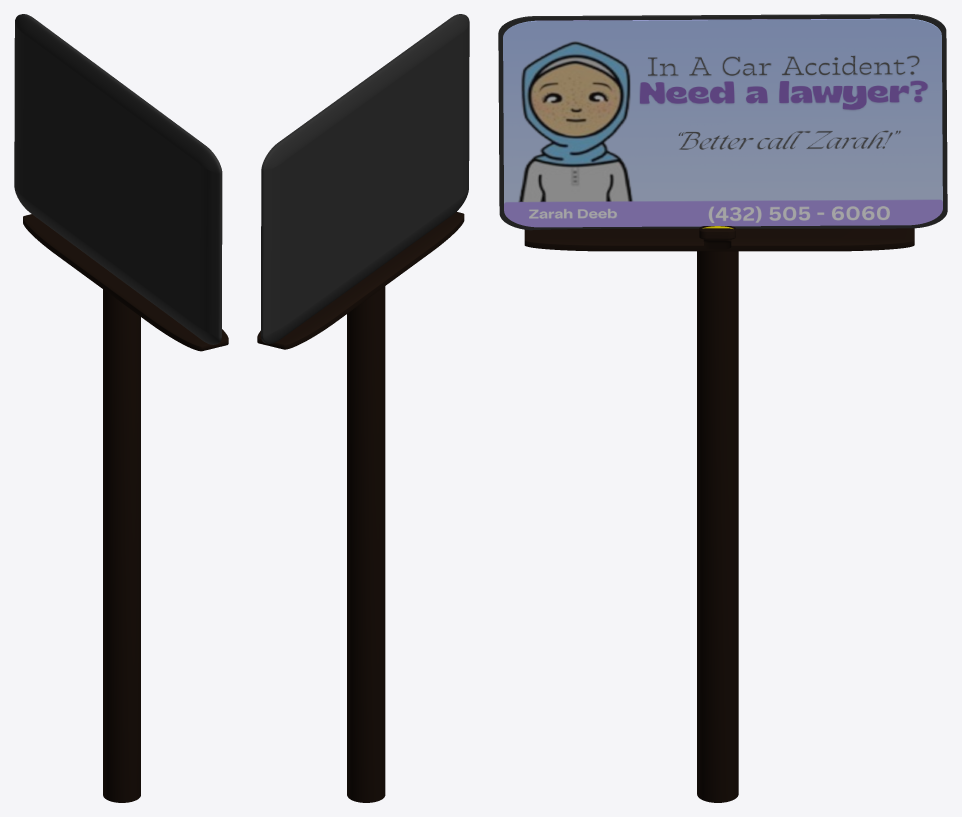
The model's file is lawyer-billboard.fbx.
3 views of the same model, side by side, from view 1: azimuth 30°, elevation 25°; view 2: azimuth 150°, elevation 25°; view 3: azimuth 270°, elevation 25° (orthographic). The views are drawn at different scales.
Visible parts, largest first — view 1: Plane.003, Cylinder, Cube.009; view 2: Plane.003, Cylinder, Cube.009; view 3: Plane.002, Cylinder, Cube.009, Plane.003.
Part boxes in pixels (x1,y1,x2,y2): Plane.003: [14, 14, 222, 344]; Cylinder: [103, 289, 140, 802]; Cube.009: [23, 214, 228, 351]; Plane.003: [260, 14, 469, 343]; Cylinder: [347, 286, 385, 802]; Cube.009: [257, 212, 464, 349]; Plane.002: [503, 18, 942, 227]; Cylinder: [697, 251, 738, 802]; Cube.009: [524, 228, 914, 251]; Plane.003: [498, 14, 947, 230].
Bounding box in the file's own units: 304 × 2919 × 1526.
